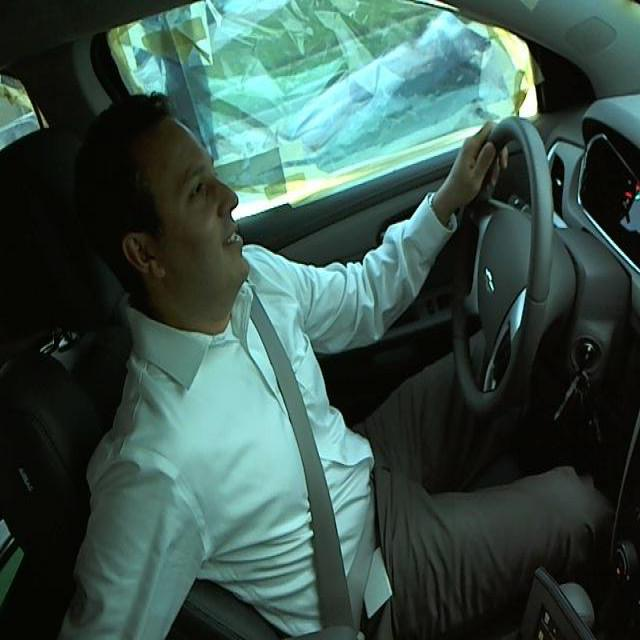seatbelt: (234, 298, 395, 638)
